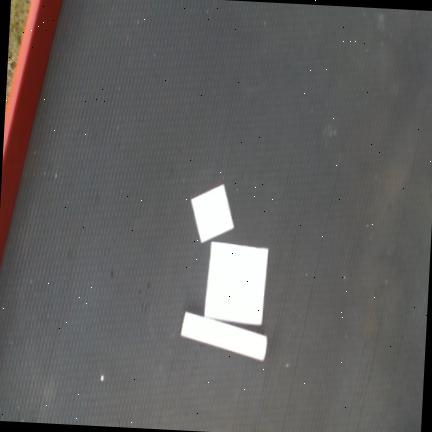Cilindro: (180, 311, 268, 361)
Piramide: (204, 241, 268, 325), (191, 183, 235, 244)
